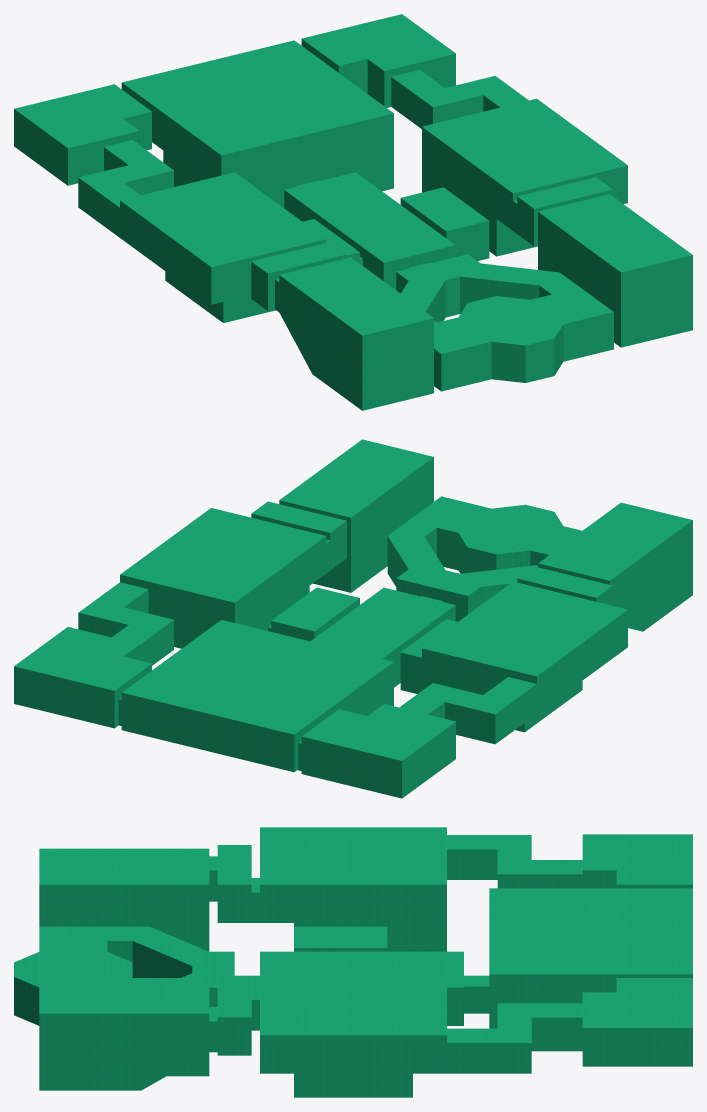
File: Temple.glb
The picture shows the model from 3 angles, top to bottom: view 1: azimuth 30°, elevation 25°; view 2: azimuth 150°, elevation 25°; view 3: azimuth 270°, elevation 25°; orthographic projection. The views are drawn at different scales.
Parts seen in each view (by area): view 1: Level-col; view 2: Level-col; view 3: Level-col.
Boxes of the visible parts, x1=… form: Level-col: x1=14, y1=14, x2=692, y2=410; Level-col: x1=14, y1=439, x2=692, y2=798; Level-col: x1=14, y1=827, x2=692, y2=1097.
Size of the model in its own units: 58 by 10 by 80.
1 material, 1 textured.
